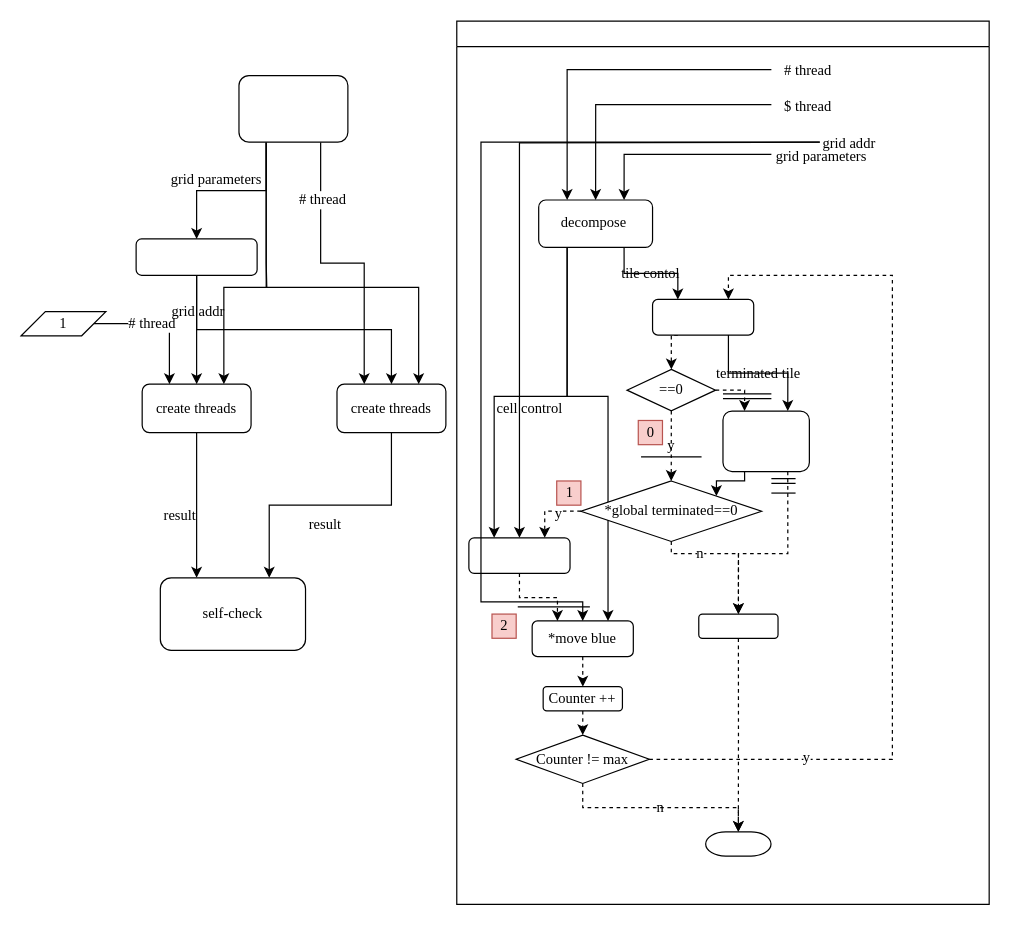
Some shapes in this 1010 by 926 pixel diagram are drawn without their labels. Here are the shapes that lost their labels. From the top down, the centre of each, then its label:
At pixel 293 108: "ask user-defined parameters".
At pixel 196 256: "memory allocation & grid init".
At pixel 702 316: "check".
At pixel 765 441: "*global terminated += 1&writ result".
At pixel 519 555: "move red".
At pixel 738 625: "break".
At pixel 737 843: "return".
